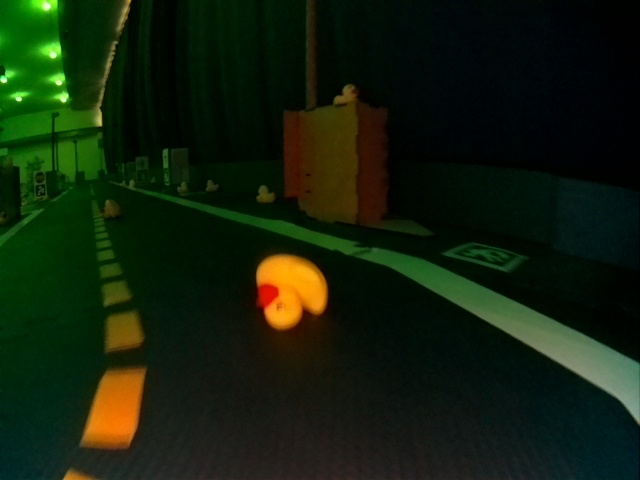Duckie: (256, 255, 327, 325), (335, 84, 356, 105), (102, 200, 119, 218), (256, 188, 275, 202), (206, 180, 216, 190), (178, 184, 187, 192), (129, 180, 136, 188)
QR code: (446, 242, 526, 272), (36, 185, 45, 197)
Stop sign: (35, 171, 44, 183)
